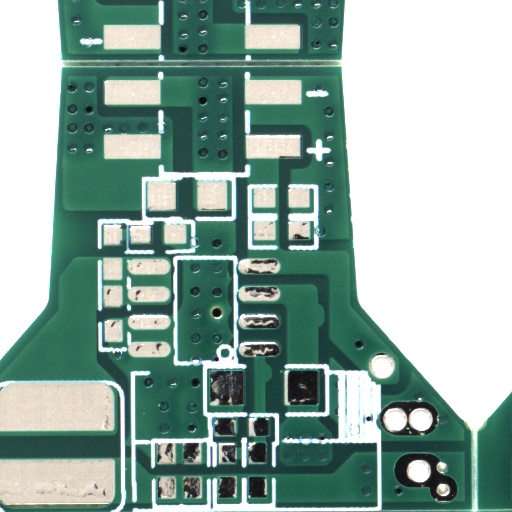Spur: (320, 315, 329, 339), (267, 373, 276, 394)
